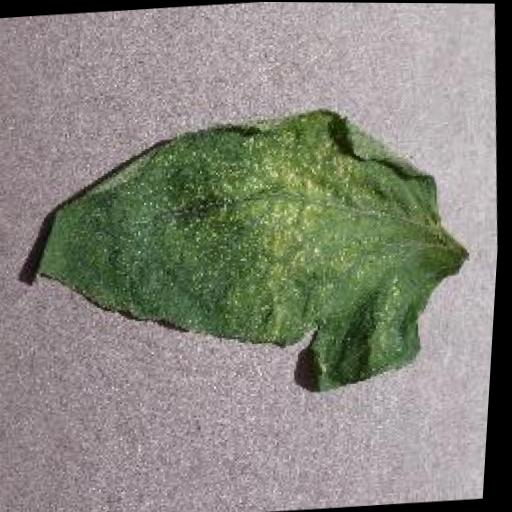Spider Mites: (17, 98, 489, 408)
